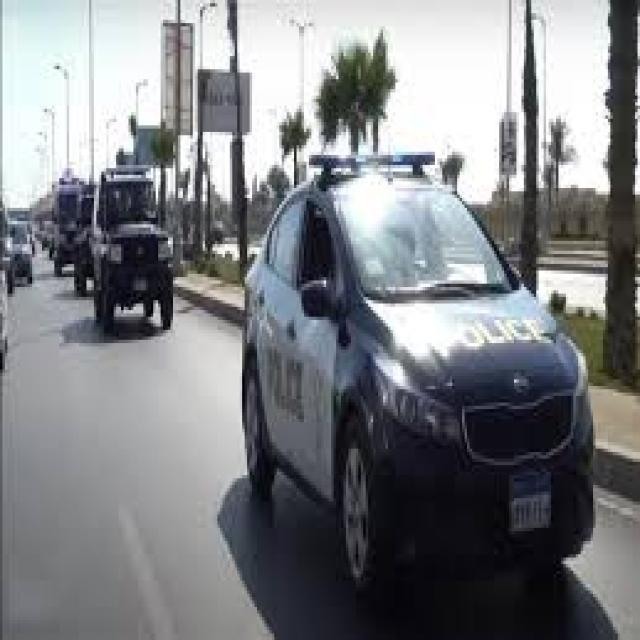fire_truck: (235, 150, 595, 601), (90, 166, 178, 337), (49, 170, 86, 278)
